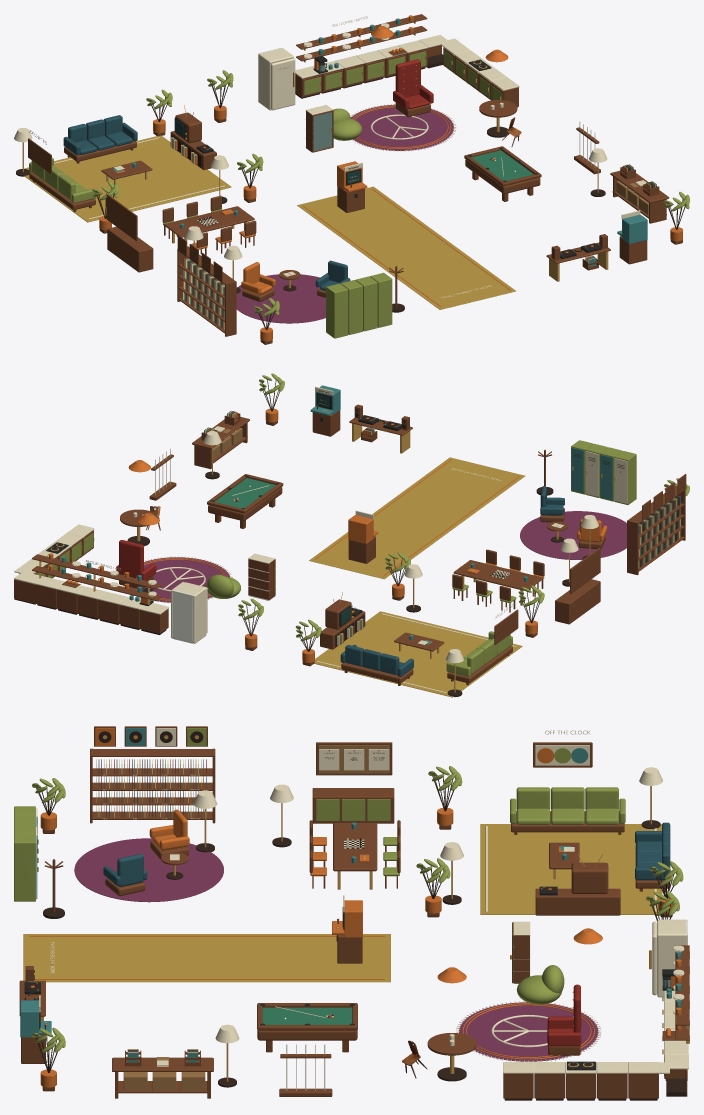
Rendered from backroom.glb.
3 renders of one model, top to bottom at view 1: azimuth 30°, elevation 25°; view 2: azimuth 150°, elevation 25°; view 3: azimuth 270°, elevation 25°, orthographic. The views are drawn at different scales.
Parts seen in each view (by area): view 1: Entry • woven runner, Lounge • ochre rug, Round aubergine rug, Reading • circular rug, Dining sideboard, Fridge • rounded door, Staff locker 1 • body, Dining • walnut tabletop, Pool • felt bed, Red armchair • back top 1.90m, Staff locker 4 • body, Noticeboard • frame (+16 smaller); view 2: Entry • woven runner, Lounge • ochre rug, Reading • circular rug, Round aubergine rug, Dining sideboard, Dining • walnut tabletop, Fridge • back, Pool • felt bed, Red armchair • back top 1.90m, Noticeboard • frame, Curio • back, Floating walnut shelf.001 (+18 smaller); view 3: Entry • woven runner, Lounge • ochre rug, Reading • circular rug, Round aubergine rug, TV • console, Dining • walnut tabletop, Pool • felt bed, Dining sideboard, Staff locker 4 • body, CRT • walnut housing, Sorting bench • worktop, Pool • cabinet (+33 smaller).
Part boxes in pixels (left/top/right/bottom): Entry • woven runner: left=297, top=186, right=515, bottom=309; Lounge • ochre rug: left=24, top=135, right=231, bottom=222; Round aubergine rug: left=351, top=104, right=453, bottom=150; Reading • circular rug: left=236, top=274, right=325, bottom=323; Dining sideboard: left=107, top=226, right=153, bottom=272; Fridge • rounded door: left=270, top=58, right=295, bottom=110; Staff locker 1 • body: left=326, top=283, right=348, bottom=338; Dining • walnut tabletop: left=164, top=206, right=254, bottom=237; Pool • felt bed: left=471, top=150, right=533, bottom=180; Red armchair • back top 1.90m: left=395, top=59, right=420, bottom=97; Staff locker 4 • body: left=370, top=272, right=392, bottom=327; Noticeboard • frame: left=106, top=194, right=137, bottom=241; Entry • woven runner: left=309, top=457, right=525, bottom=579; Lounge • ochre rug: left=314, top=611, right=522, bottom=697; Reading • circular rug: left=520, top=511, right=626, bottom=559; Round aubergine rug: left=129, top=557, right=229, bottom=602; Dining sideboard: left=555, top=579, right=600, bottom=624; Dining • walnut tabletop: left=453, top=560, right=543, bottom=590; Fridge • back: left=172, top=590, right=193, bottom=643; Pool • felt bed: left=214, top=478, right=275, bottom=508; Red armchair • back top 1.90m: left=119, top=540, right=143, bottom=578; Noticeboard • frame: left=570, top=547, right=600, bottom=593; Curio • back: left=248, top=559, right=269, bottom=599; Floating walnut shelf.001: left=32, top=554, right=161, bottom=589; Entry • woven runner: left=23, top=934, right=390, bottom=982; Lounge • ochre rug: left=480, top=824, right=662, bottom=914; Reading • circular rug: left=74, top=838, right=223, bottom=902; Round aubergine rug: left=459, top=1002, right=598, bottom=1061; TV • console: left=535, top=888, right=620, bottom=915; Dining • walnut tabletop: left=333, top=822, right=377, bottom=871; Pool • felt bed: left=262, top=1007, right=352, bottom=1024; Dining sideboard: left=312, top=788, right=394, bottom=823; Staff locker 4 • body: left=14, top=834, right=35, bottom=901; CRT • walnut housing: left=571, top=862, right=608, bottom=893; Sorting bench • worktop: left=112, top=1057, right=213, bottom=1071; Pool • cabinet: left=257, top=1030, right=357, bottom=1040.
Size of what is drawn, in the model's own units: 19.96 by 3.44 by 19.86.
21 materials, 2 textured.
